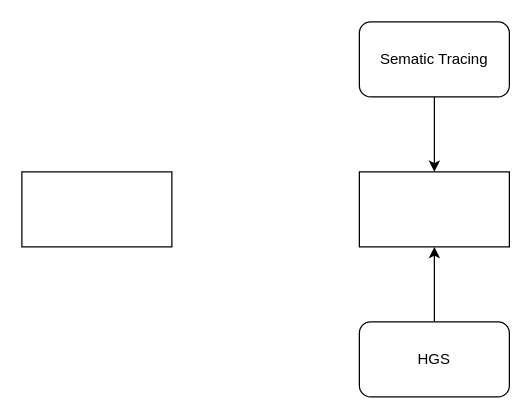
Image size: 531x419. Some labels were removed from this diagram. Each missing label, with the centre of its shape:
Gaussian Editor: pixel 96 209
原生3D GS: pixel 433 209
